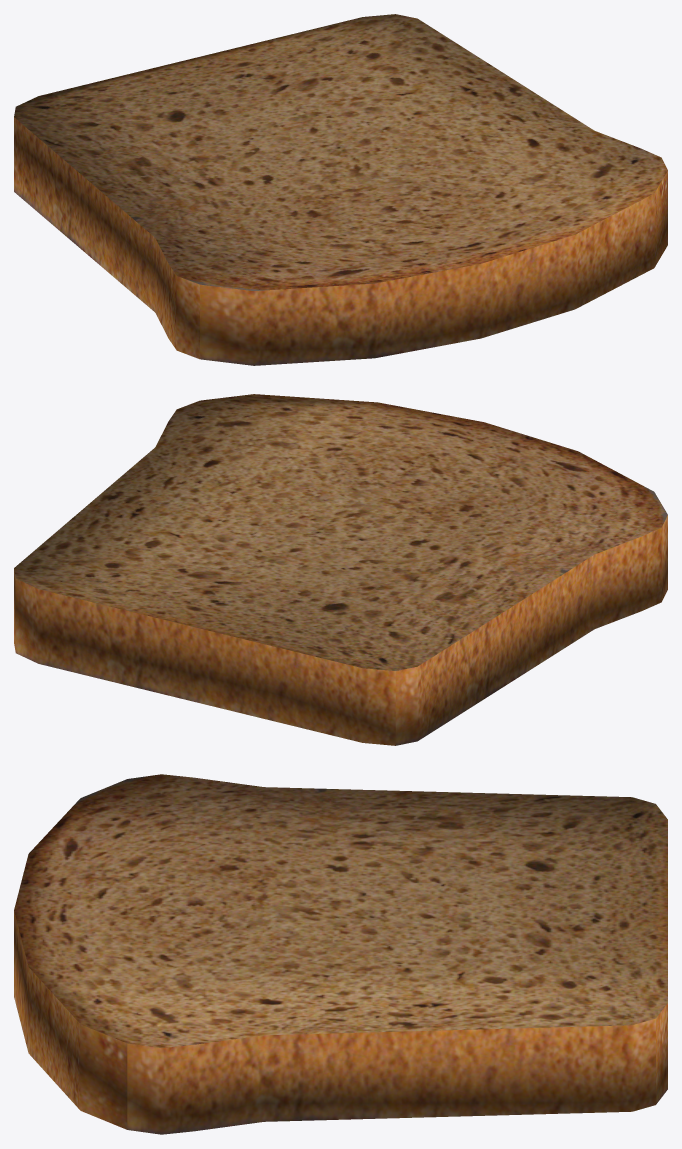
The model's file is BrødSkive.glb.
3 renders of one model, top to bottom at view 1: azimuth 30°, elevation 25°; view 2: azimuth 150°, elevation 25°; view 3: azimuth 270°, elevation 25°, orthographic. The views are drawn at different scales.
Visible parts, largest first — view 1: BrødSkive; view 2: BrødSkive; view 3: BrødSkive.
Part boxes in pixels (left/top/right/bottom): BrødSkive: left=14, top=14, right=667, bottom=365; BrødSkive: left=14, top=394, right=667, bottom=745; BrødSkive: left=14, top=774, right=667, bottom=1134.
Bounding box in the file's own units: 1.06 × 0.1562 × 1.07.
Materials: 1 (1 with a texture image).
